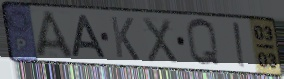A: (33, 9, 78, 61), (69, 13, 109, 60)
I: (231, 21, 248, 70)
K: (108, 15, 141, 63)
Q: (185, 17, 223, 69)
X: (140, 16, 180, 66)
